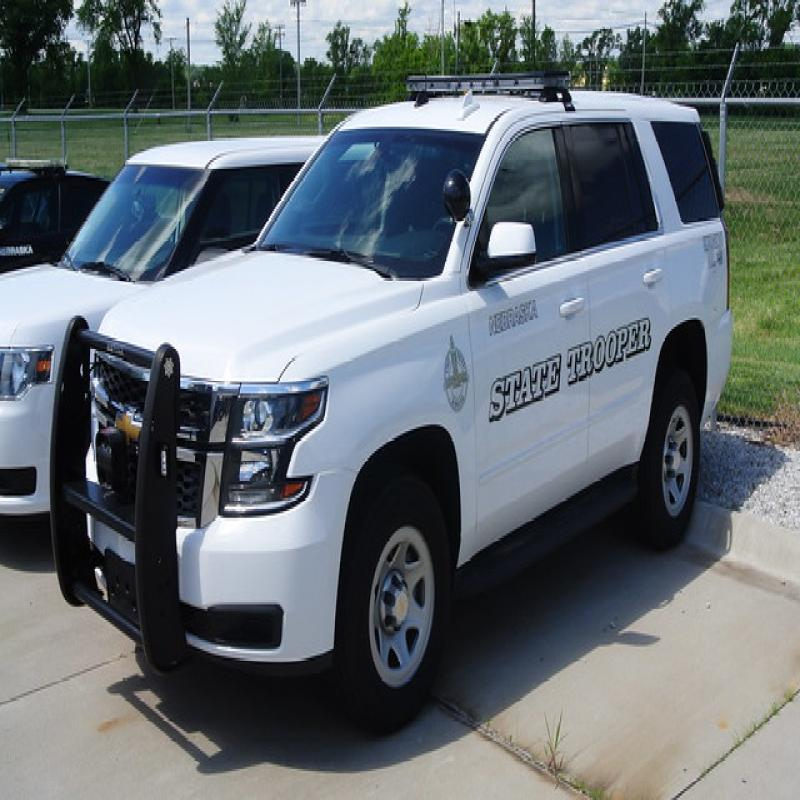AmbulanceSiren: (394, 59, 580, 108)
